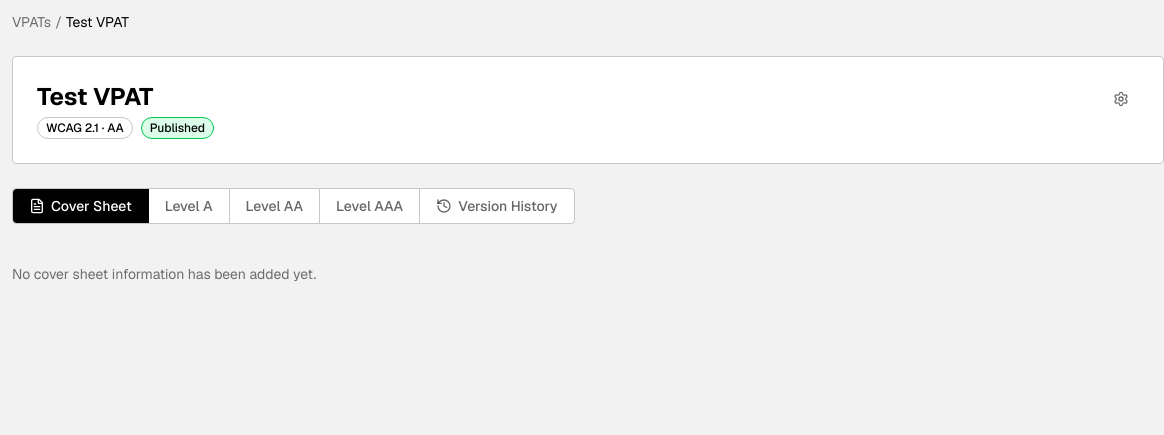
Test case: VpatDetailPage Unpublish flow › shows "Unpublish" in settings menu when published
Click the button named "vpat settings".
click(1121, 99)  # box [1103,81,1139,117]
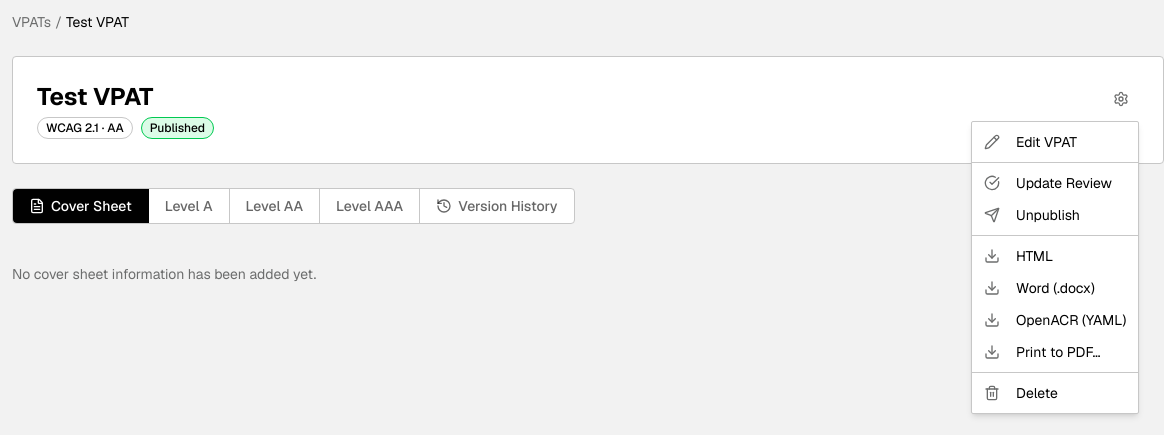
Now the menu item "Unpublish" is shown, box [984,206,1080,224]
